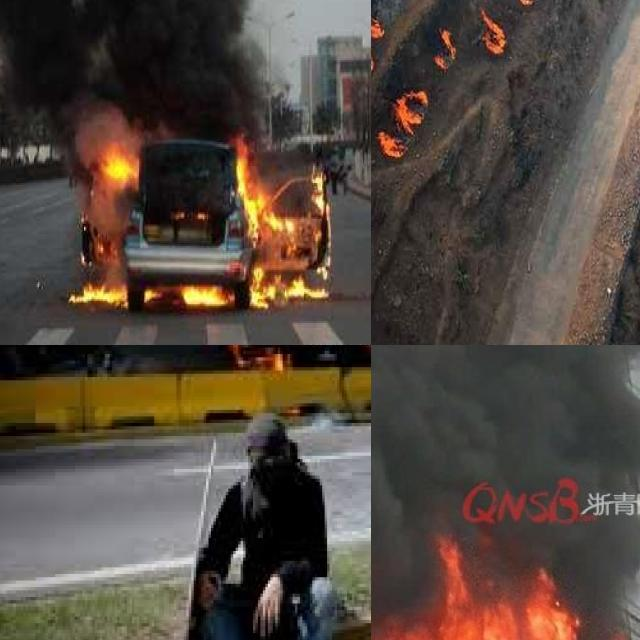fire: (72, 122, 328, 321), (371, 524, 630, 640), (392, 86, 430, 127), (476, 10, 507, 54), (374, 127, 406, 162), (371, 7, 386, 80), (432, 25, 455, 71), (512, 0, 536, 6)
smoke: (371, 345, 640, 640), (0, 0, 271, 137)
